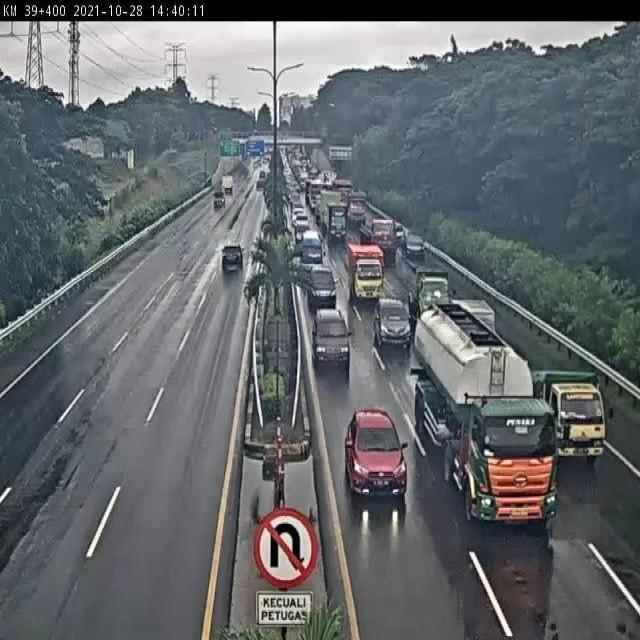bus-s-: (300, 232, 324, 280)
car: (344, 409, 408, 499), (312, 308, 354, 375), (369, 296, 417, 353), (307, 266, 340, 314), (402, 230, 426, 262), (220, 244, 243, 269)
truck-m-: (534, 368, 608, 459), (345, 243, 387, 301), (412, 272, 455, 317)
truck-xl-: (415, 296, 560, 521), (361, 215, 399, 261)
